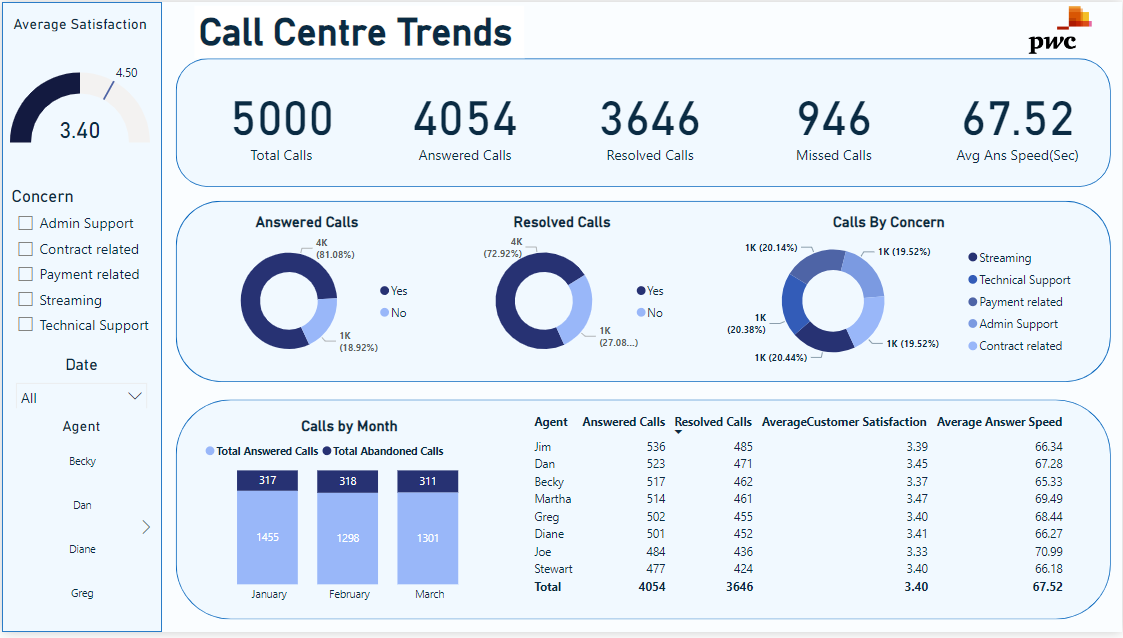

Layout of this report page (visuals, bound fields, positions):
{"tool":"powerbi","page":{"name":"Call Center Trend Analysis","canvas":[1280,720],"ordinal":1},"visuals":[{"type":"shape","box":[198.6,454.3,1068.6,251.4],"z":0},{"type":"shape","box":[198.6,64.3,1068.6,147.1],"z":1000},{"type":"shape","box":[198.6,227.1,1068.6,207.1],"z":2000},{"type":"shape","box":[0,0,182.9,720],"z":3000},{"type":"textbox","box":[220,4.3,377.1,60],"z":4000},{"type":"image","box":[1161.4,0,95.7,64.3],"z":5000},{"type":"gauge","title":"Average Satisfaction","fields":{"Y":["KPI.Overall Customer Satisfaction"],"TargetValue":["KPI.Target Value"]},"box":[4.3,14.3,170,184.3],"z":6000},{"type":"card","fields":{"Values":["KPI.Total Calls"]},"box":[241.4,75.7,155.7,121.4],"z":7000},{"type":"card","fields":{"Values":["KPI.Total Answered Calls"]},"box":[451.8,75.7,155.7,121.4],"z":8000},{"type":"card","fields":{"Values":["KPI.Total Resolved Calls"]},"box":[662.1,75.7,155.7,121.4],"z":9000},{"type":"card","fields":{"Values":["KPI.Total Abandoned Calls"]},"box":[872.5,75.7,155.7,121.4],"z":10000},{"type":"card","fields":{"Values":["KPI.Average Answer Speed"]},"box":[1082.9,75.7,155.7,121.4],"z":11000},{"type":"tableEx","fields":{"Values":["Call-Center-Dataset.Agent","KPI.Total Answered Calls","KPI.Total Resolved Calls","KPI.Overall Customer Satisfaction","KPI.Average Answer Speed"]},"box":[597.1,464.3,638.6,231.4],"z":12000},{"type":"donutChart","title":"Answered Calls","fields":{"Y":["KPI.Total Answered Calls","KPI.Total Abandoned Calls"]},"box":[220,241.4,257.1,181.4],"z":13000},{"type":"donutChart","title":"Resolved Calls","fields":{"Y":["KPI.Total Resolved Calls","KPI.Total Unresolved Calls"]},"box":[510,241.4,260,181.4],"z":14000},{"type":"hundredPercentStackedColumnChart","title":"Calls by Month","fields":{"Y":["KPI.Total Answered Calls","KPI.Total Abandoned Calls"],"Category":["Call-Center-Dataset.Date.Variation.Date Hierarchy.Month"]},"box":[227.1,474.3,340,221.4],"z":15000},{"type":"donutChart","title":"Calls By Concern","fields":{"Y":["KPI.Total Calls"],"Category":["Call-Center-Dataset.Topic"]},"box":[791.4,241.4,444.3,181.4],"z":16000},{"type":"slicer","title":"Concern","fields":{"Values":["Call-Center-Dataset.Topic"]},"box":[5.7,211.4,170,182.9],"z":17000},{"type":"slicer","title":"Date","fields":{"Values":["Call-Center-Dataset.Date.Variation.Date Hierarchy.Month","Call-Center-Dataset.Date.Variation.Date Hierarchy.Day"]},"box":[5.7,404.3,170,60],"z":18000},{"type":"slicer","title":"Agent","fields":{"Values":["Call-Center-Dataset.Agent"]},"box":[5.7,474.3,170,231.4],"z":19000}]}

Visuals, with their boxes in screenshot pixels (x1, y1, x2, y2), scaled from the page's 1280x720 canvas onto the 1123x638 screenshot:
shape: [x1=174, y1=403, x2=1112, y2=625]
shape: [x1=174, y1=57, x2=1112, y2=187]
shape: [x1=174, y1=201, x2=1112, y2=385]
shape: [x1=0, y1=0, x2=160, y2=637]
textbox: [x1=193, y1=4, x2=524, y2=57]
image: [x1=1019, y1=0, x2=1103, y2=57]
"Average Satisfaction" gauge: [x1=4, y1=13, x2=153, y2=176]
card - KPI.Total Calls: [x1=212, y1=67, x2=348, y2=175]
card - KPI.Total Answered Calls: [x1=396, y1=67, x2=533, y2=175]
card - KPI.Total Resolved Calls: [x1=581, y1=67, x2=717, y2=175]
card - KPI.Total Abandoned Calls: [x1=765, y1=67, x2=902, y2=175]
card - KPI.Average Answer Speed: [x1=950, y1=67, x2=1087, y2=175]
tableEx - Call-Center-Dataset.Agent x KPI.Total Answered Calls: [x1=524, y1=411, x2=1084, y2=616]
"Answered Calls" donutChart: [x1=193, y1=214, x2=419, y2=375]
"Resolved Calls" donutChart: [x1=447, y1=214, x2=676, y2=375]
"Calls by Month" hundredPercentStackedColumnChart: [x1=199, y1=420, x2=498, y2=616]
"Calls By Concern" donutChart: [x1=694, y1=214, x2=1084, y2=375]
"Concern" slicer: [x1=5, y1=187, x2=154, y2=349]
"Date" slicer: [x1=5, y1=358, x2=154, y2=411]
"Agent" slicer: [x1=5, y1=420, x2=154, y2=625]
